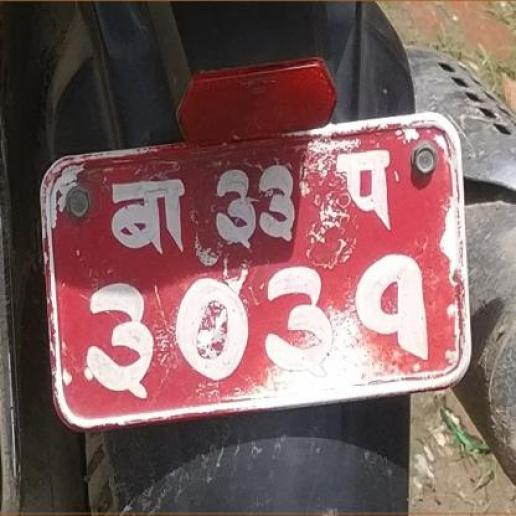0: (171, 273, 252, 381)
1: (350, 242, 440, 367)
3: (80, 277, 157, 408), (262, 258, 336, 378), (210, 164, 259, 254), (257, 160, 301, 251)
ba: (106, 174, 189, 258)
pa: (333, 146, 400, 241)
